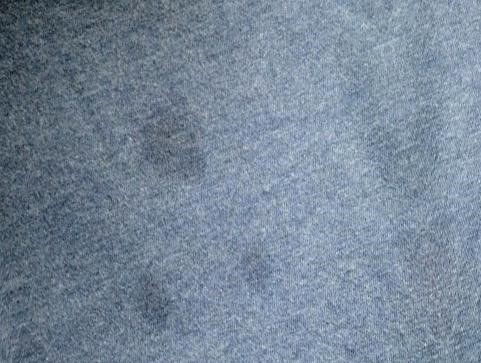stain: (145, 108, 213, 191), (126, 268, 175, 332), (233, 240, 276, 298)
